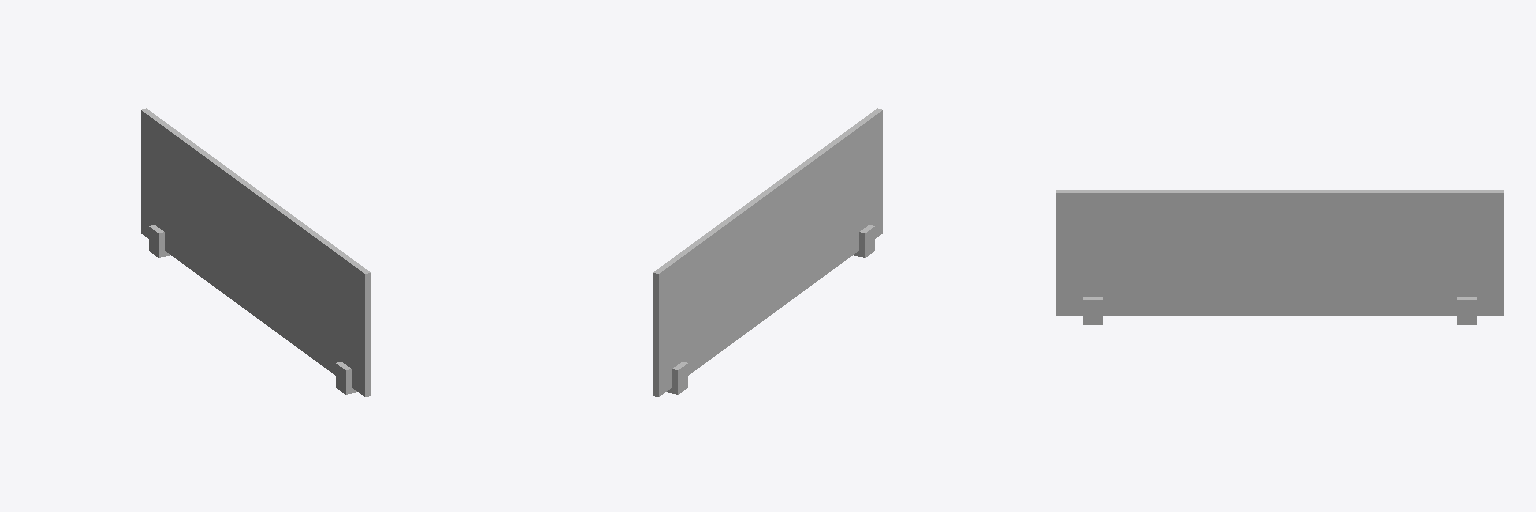
The model's file is DeskDivider.obj.
3 renders of one model, left to right at view 1: azimuth 30°, elevation 25°; view 2: azimuth 150°, elevation 25°; view 3: azimuth 270°, elevation 25°, orthographic.
Visible parts, largest first — view 1: Untitled.001; view 2: Untitled.001; view 3: Untitled.001.
Boxes of the visible parts, box(x1,y1,x2,y2) form: Untitled.001: box(141, 108, 370, 396); Untitled.001: box(653, 108, 882, 396); Untitled.001: box(1056, 190, 1503, 324).
Bounding box in the file's own units: 0.3 × 2.1 × 6.6.